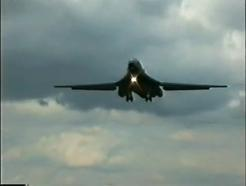aircraft: (54, 58, 230, 103)
